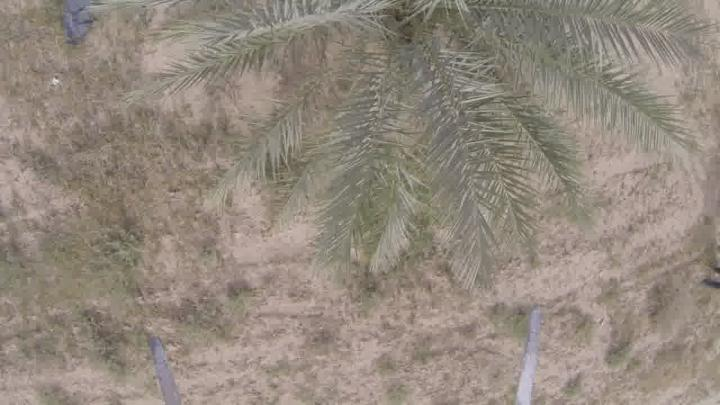Date-Palm-Crown: (292, 0, 578, 156)
